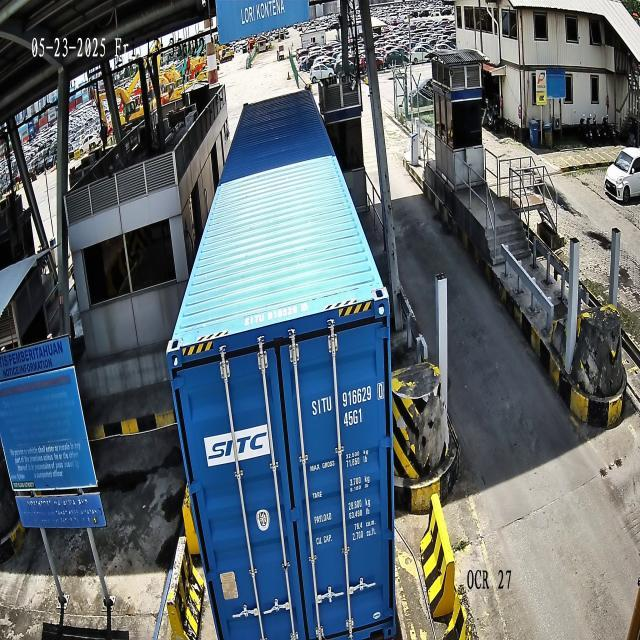ISO: (342, 407, 362, 427)
container_number: (310, 382, 384, 417)
